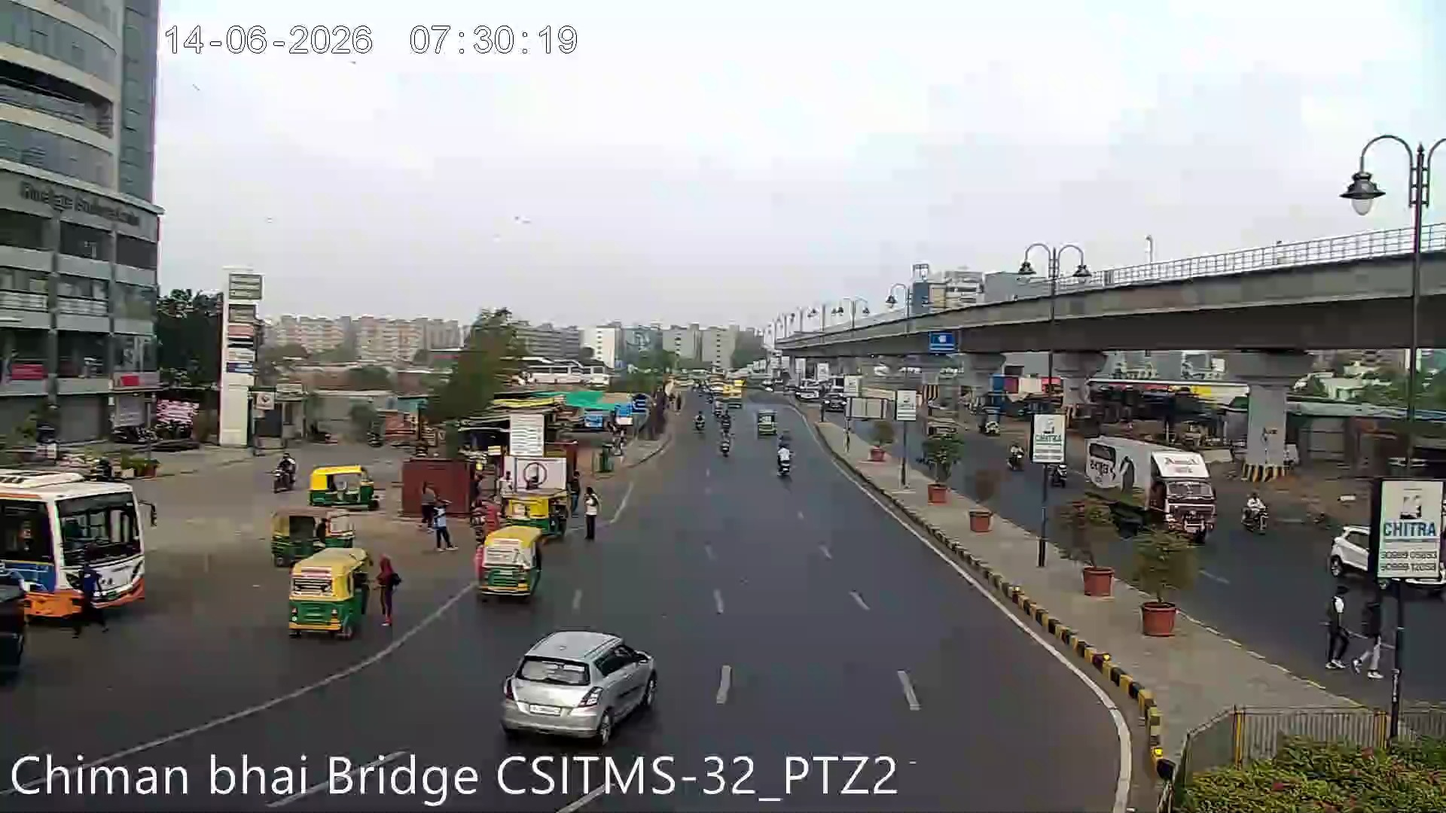auto_rickshaw: (285, 547, 371, 637), (475, 523, 546, 600), (267, 503, 331, 566), (306, 458, 381, 510), (0, 586, 32, 692), (504, 491, 570, 536), (523, 489, 572, 537), (924, 409, 961, 442), (714, 375, 747, 406), (754, 403, 780, 436)
bus: (0, 457, 163, 659), (0, 455, 64, 687)
car: (498, 624, 663, 736)
pedestrian: (1365, 582, 1400, 670), (1320, 581, 1352, 669), (420, 479, 454, 555), (1363, 583, 1391, 669), (375, 551, 403, 631), (423, 495, 455, 554), (580, 485, 604, 545)
truck: (1079, 429, 1221, 539), (1145, 442, 1218, 529)
two_wheeler: (1239, 487, 1271, 536), (270, 450, 298, 493), (773, 434, 797, 483), (716, 418, 735, 462), (1005, 438, 1025, 473), (692, 405, 708, 437)
